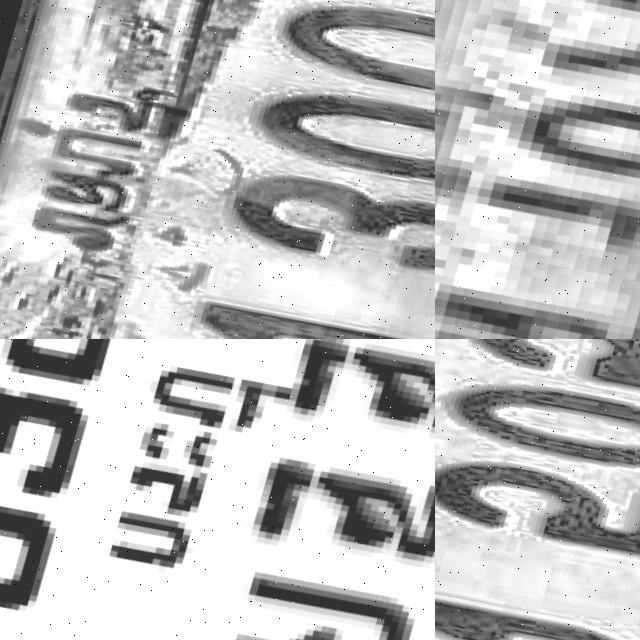license-plate: (0, 0, 435, 339), (0, 339, 435, 640), (435, 0, 640, 339), (435, 339, 640, 640)
